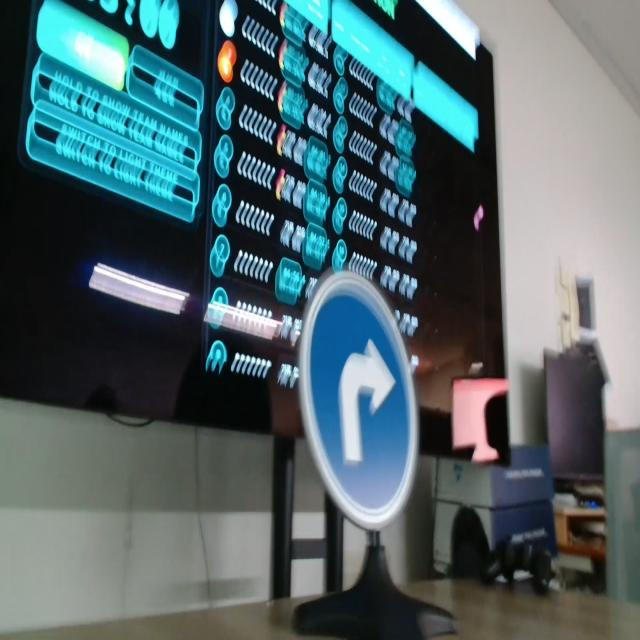right_dierection: (290, 242, 438, 545)
